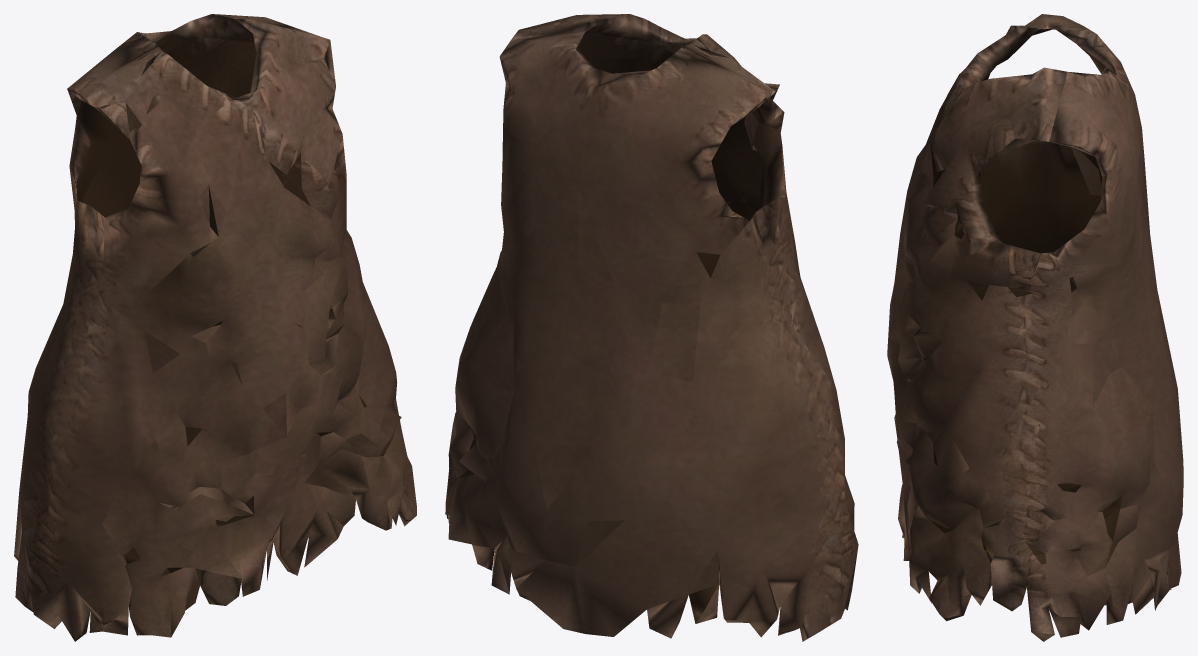
File: tribalA.glb
3 views of the same model, side by side, from view 1: azimuth 30°, elevation 25°; view 2: azimuth 150°, elevation 25°; view 3: azimuth 270°, elevation 25° (orthographic). The views are drawn at different scales.
Visible parts, largest first — view 1: Mesh_0; view 2: Mesh_0; view 3: Mesh_0.
Part boxes in pixels (bbox=[...]): Mesh_0: bbox=[14, 14, 416, 641]; Mesh_0: bbox=[445, 14, 858, 641]; Mesh_0: bbox=[887, 14, 1183, 641].
Bounding box in the file's own units: 9.06 × 12.87 × 6.28.
Materials: 1 (1 with a texture image).
